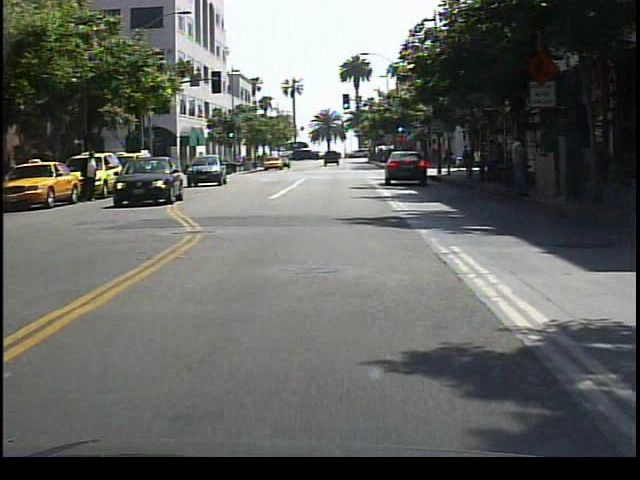person: (506, 130, 534, 202), (82, 147, 104, 208)
